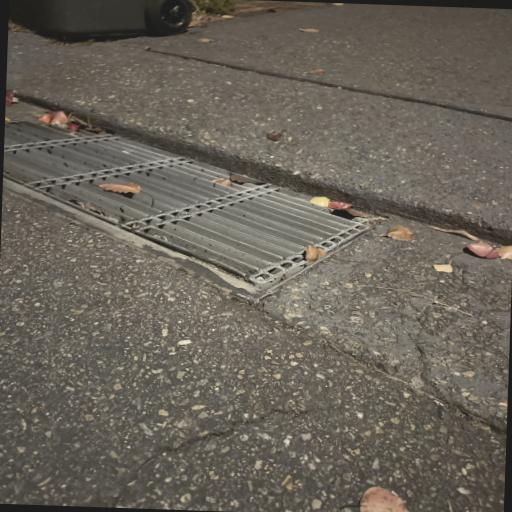gutter: (3, 121, 370, 290)
step: (6, 2, 512, 242)
